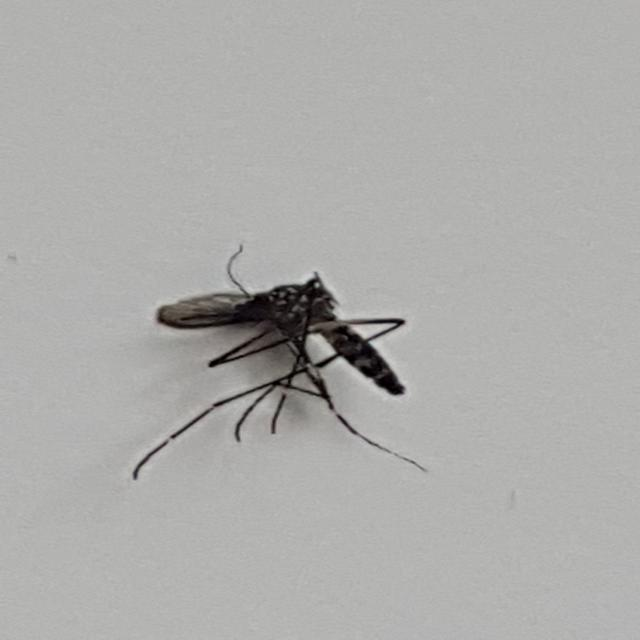albopictus: (120, 234, 422, 490)
